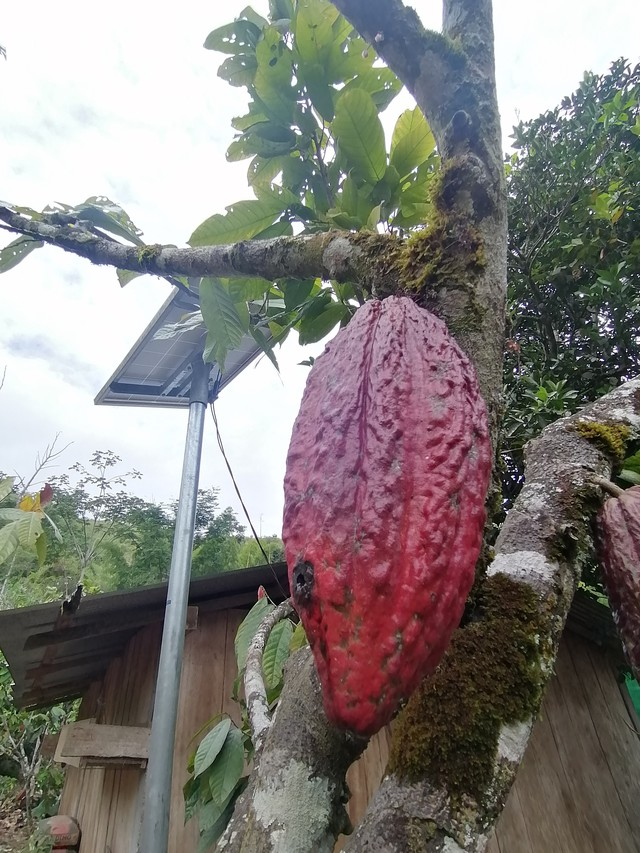carmenta foraseminis: (281, 287, 499, 743)
